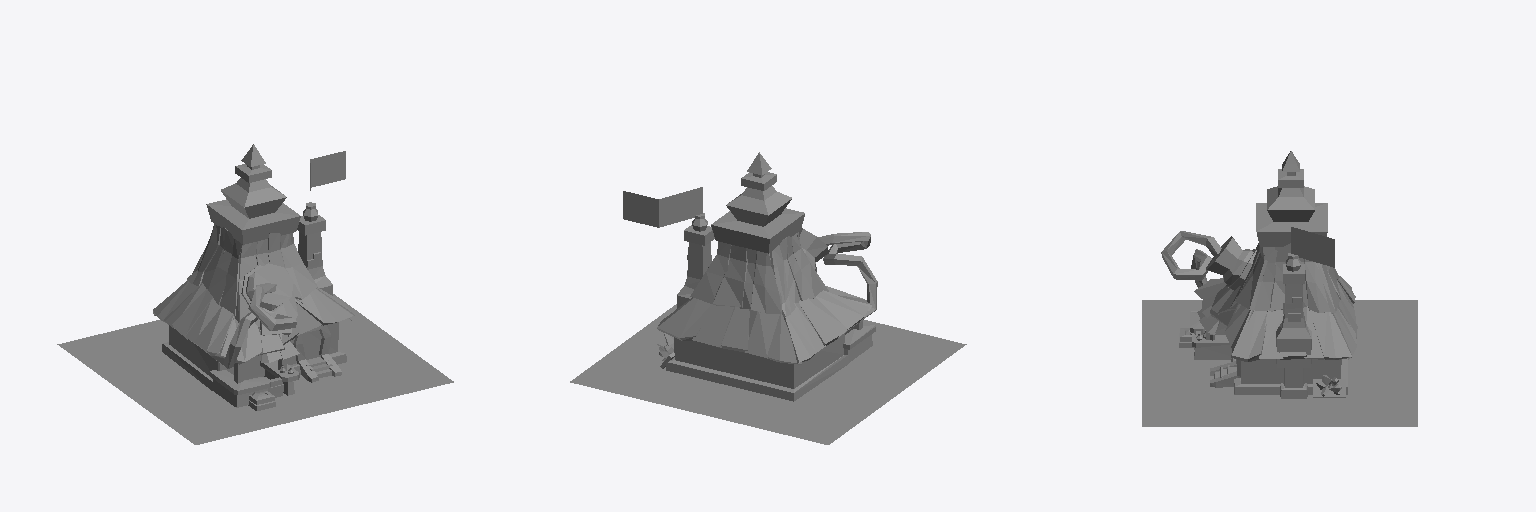
Rendered from sketchfab.obj.
The picture shows the model from 3 angles: view 1: azimuth 30°, elevation 25°; view 2: azimuth 150°, elevation 25°; view 3: azimuth 270°, elevation 25°; orthographic projection.
Parts seen in each view (by area): view 1: Plane001, Box014, Object019, Object022, Object021, Box013, Object020, Box015, Line004, Cylinder006, Box017, Plane002 (+1 smaller); view 2: Plane001, Box013, Object023, Box014, Object024, Object019, Object020, Plane002, Line004, Box017, Box015, Cylinder006; view 3: Plane001, Box014, Object017, Box017, Object018, Box013, Object021, Line004, Object022, Cylinder006, Plane002, Box015 (+2 smaller).
Part boxes in pixels (left/top/right/bottom): Plane001: left=57, top=294, right=453, bottom=444; Box014: left=206, top=144, right=300, bottom=244; Object019: left=153, top=281, right=234, bottom=355; Object022: left=235, top=233, right=317, bottom=336; Object021: left=215, top=289, right=352, bottom=364; Box013: left=162, top=322, right=346, bottom=390; Object020: left=187, top=224, right=243, bottom=315; Box015: left=209, top=360, right=299, bottom=407; Line004: left=211, top=283, right=296, bottom=368; Cylinder006: left=241, top=263, right=293, bottom=311; Box017: left=297, top=215, right=332, bottom=295; Plane002: left=310, top=151, right=345, bottom=190; Plane001: left=570, top=304, right=966, bottom=444; Box013: left=666, top=333, right=848, bottom=401; Object023: left=657, top=298, right=801, bottom=364; Box014: left=711, top=152, right=804, bottom=253; Object024: left=690, top=241, right=782, bottom=313; Object019: left=784, top=290, right=868, bottom=363; Object020: left=770, top=233, right=823, bottom=316; Plane002: left=623, top=187, right=702, bottom=227; Line004: left=818, top=232, right=877, bottom=337; Box017: left=677, top=225, right=714, bottom=308; Box015: left=843, top=322, right=875, bottom=362; Cylinder006: left=799, top=228, right=828, bottom=271; Plane001: left=1142, top=300, right=1417, bottom=426; Box014: left=1256, top=151, right=1327, bottom=246; Object017: left=1231, top=306, right=1351, bottom=361; Box017: left=1276, top=264, right=1311, bottom=398; Object018: left=1254, top=243, right=1329, bottom=312; Box013: left=1231, top=358, right=1347, bottom=394; Object021: left=1194, top=278, right=1253, bottom=352; Line004: left=1161, top=231, right=1221, bottom=287; Object022: left=1211, top=243, right=1267, bottom=314; Cylinder006: left=1206, top=236, right=1256, bottom=290; Plane002: left=1291, top=227, right=1334, bottom=267; Box015: left=1190, top=311, right=1231, bottom=359.
Bounding box in the file's own units: 195 × 155 × 180.